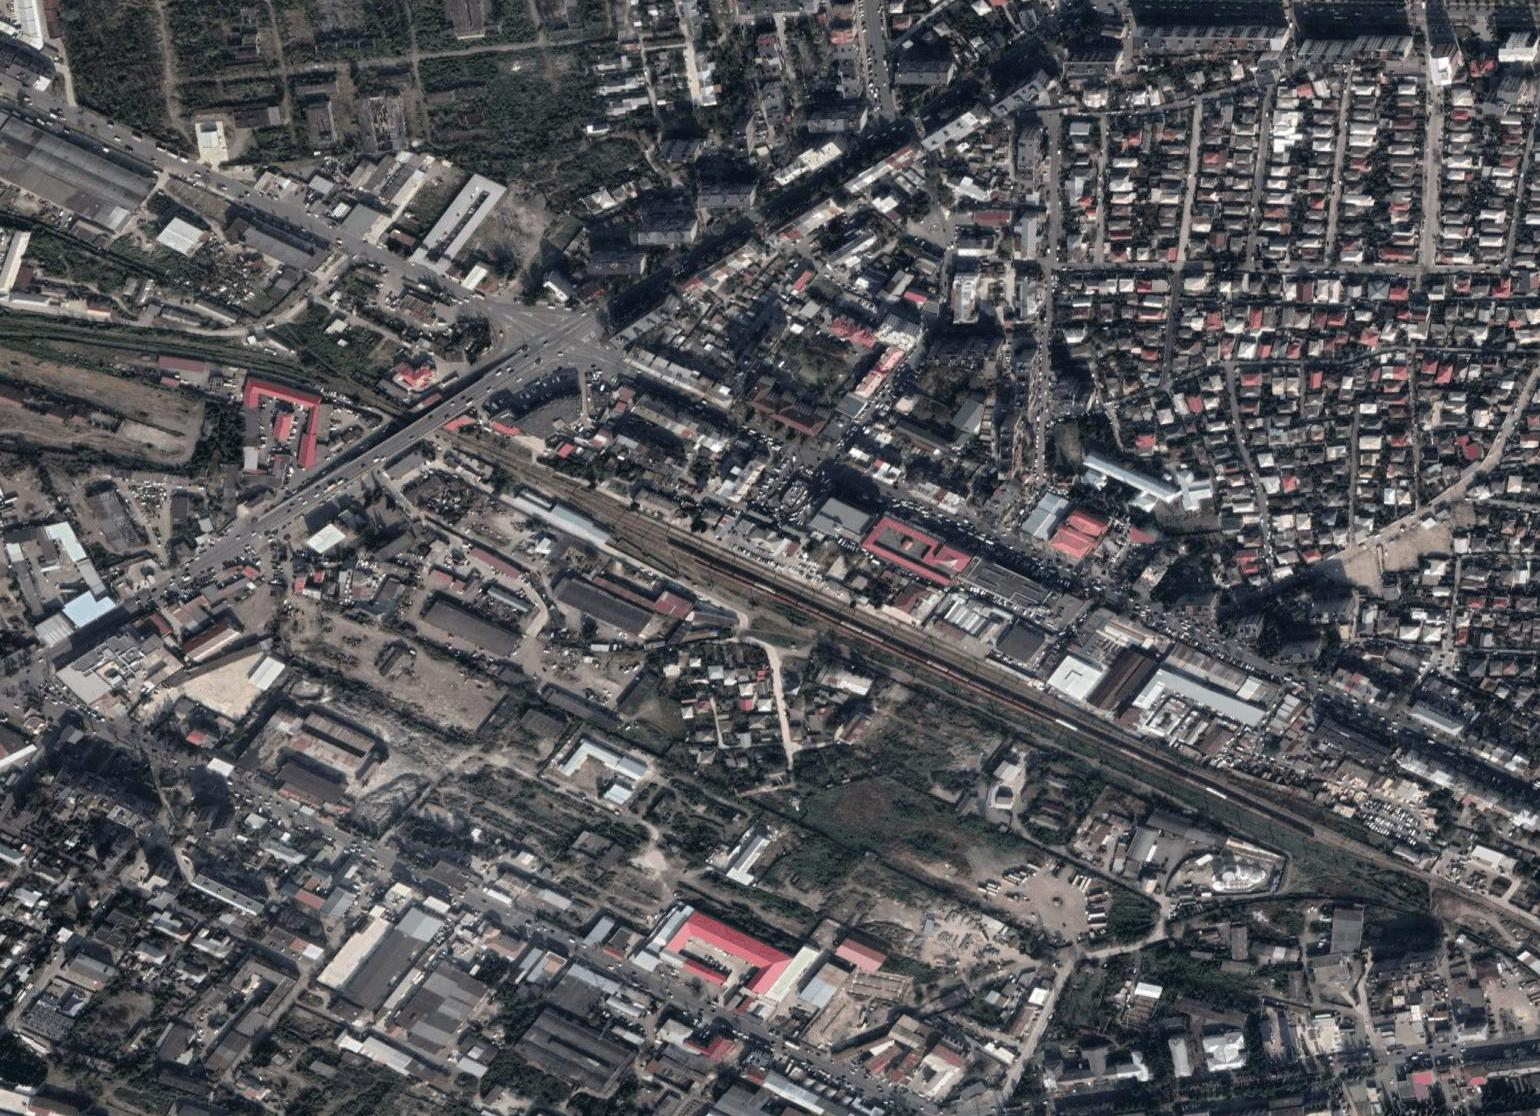train_station: (670, 495, 842, 628)
